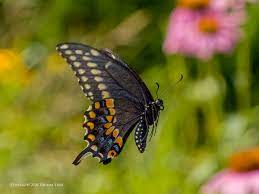insect: (52, 39, 164, 166)
